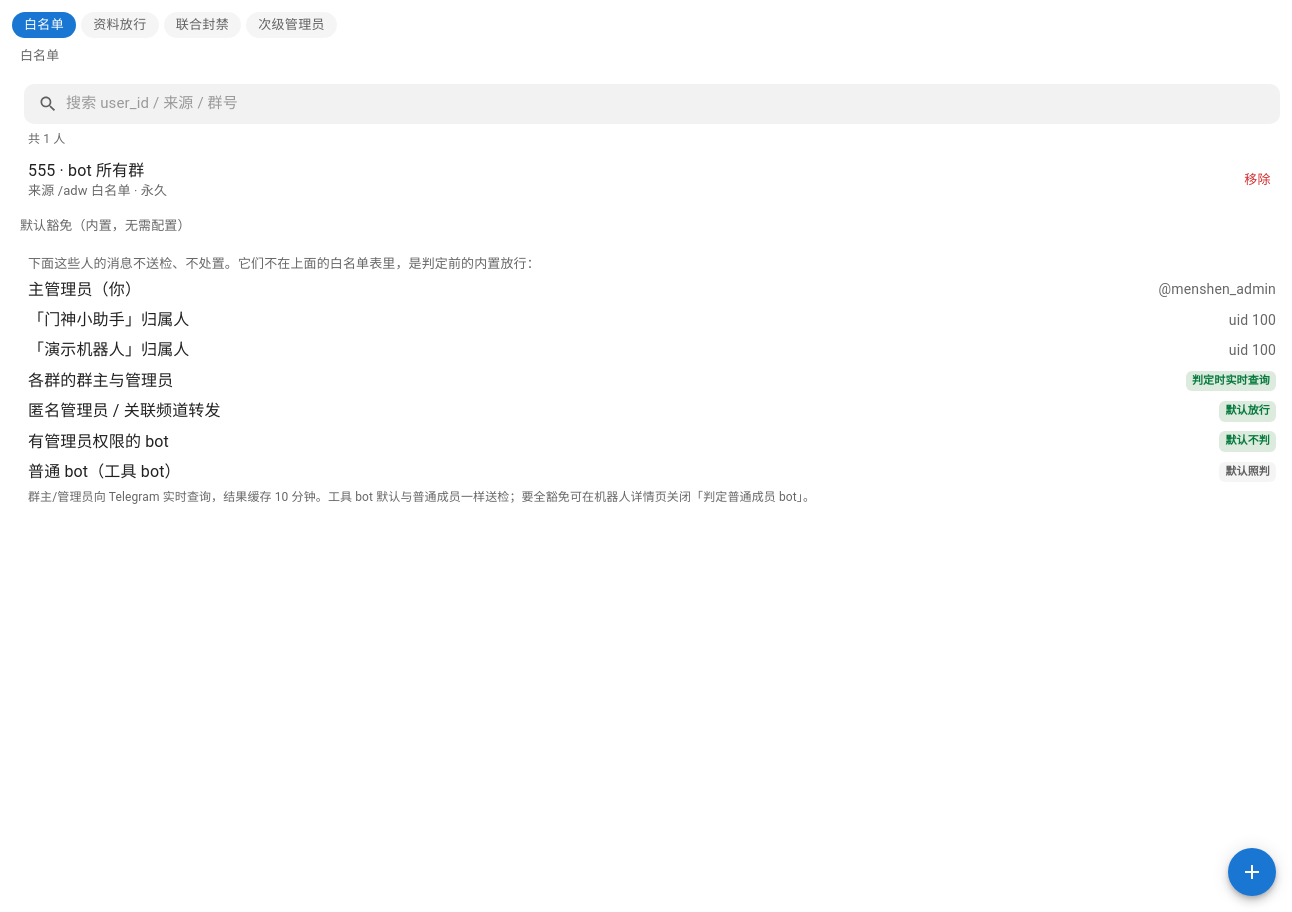
Test case: ListsPage 四处搜索（本地过滤 + 焦点不丢） › 全局组：按 uid / 原因过滤，输入焦点不丢
Expected: the text "555 · bot 所有群" is shown, [28,161,144,180]
Click the button "联合封禁".
click(202, 25)  # box [164,12,241,38]
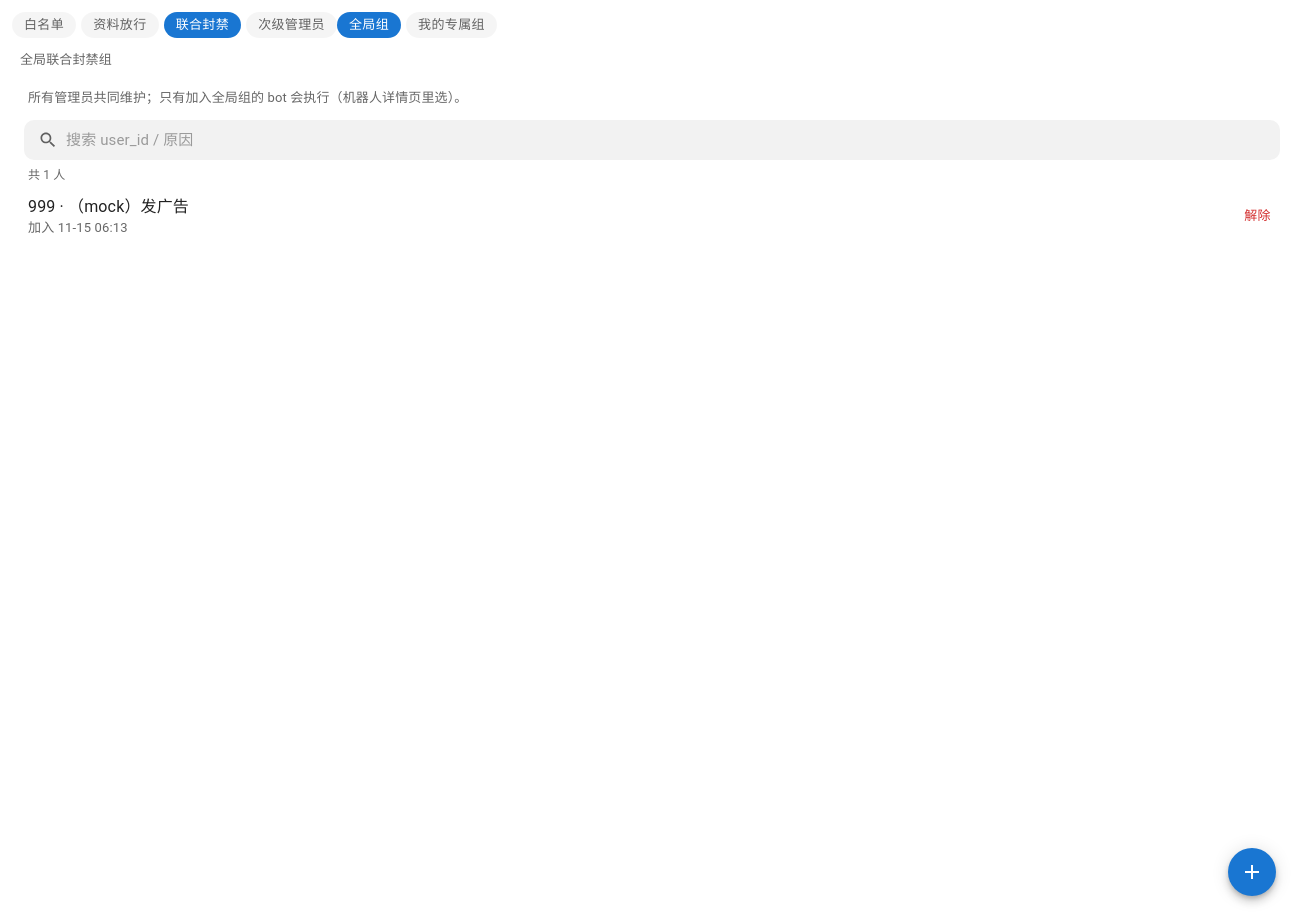
Type "999" into the field named "搜索全局组".
click(673, 140); type("999")  # box [66,121,1280,160]
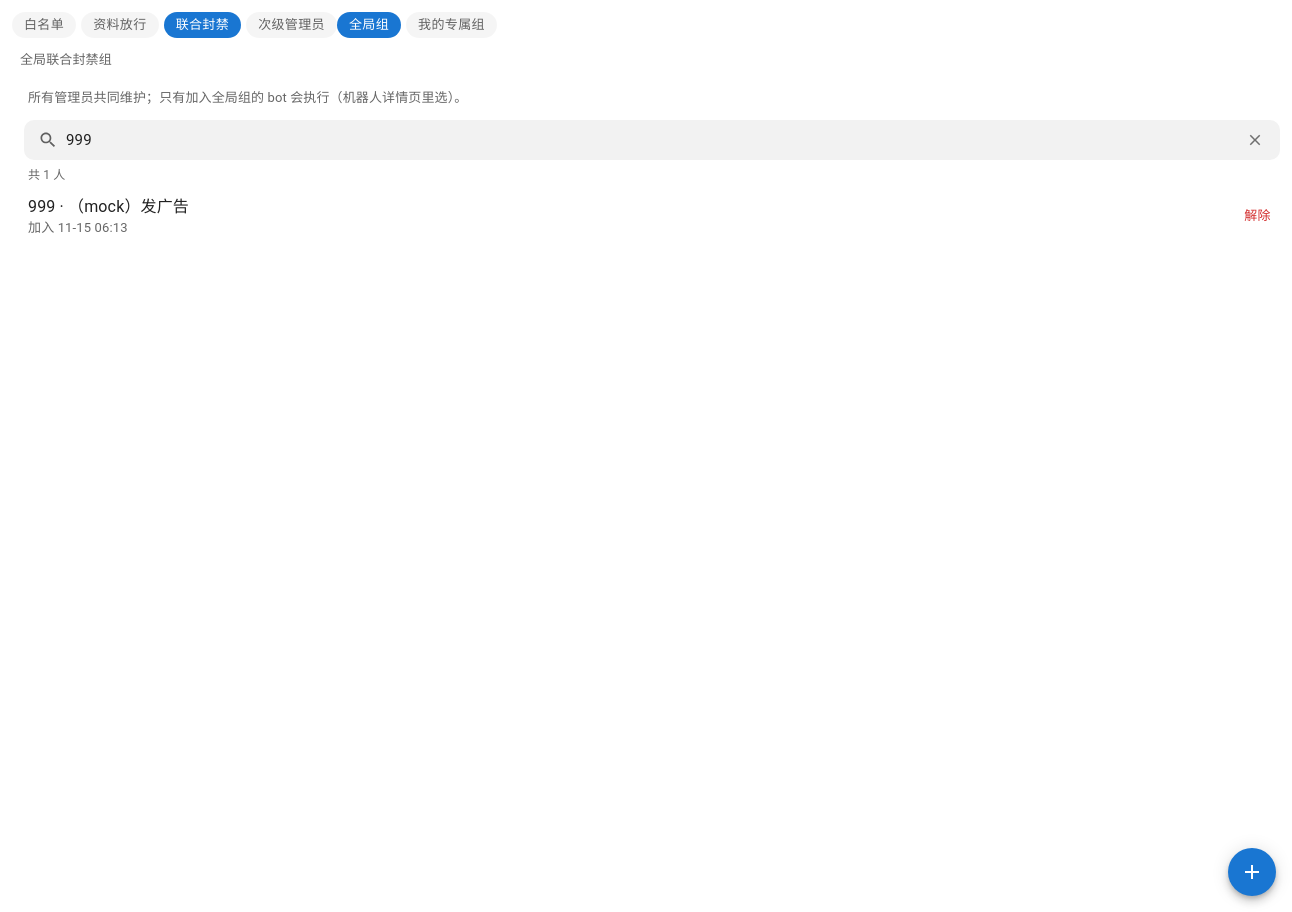
Result: the text "999 · （mock）发广告" is shown at [28,198,189,216]
Replace the text in the field named "搜索全局组" with "发广告" at (650, 140), box [66,121,1233,160]
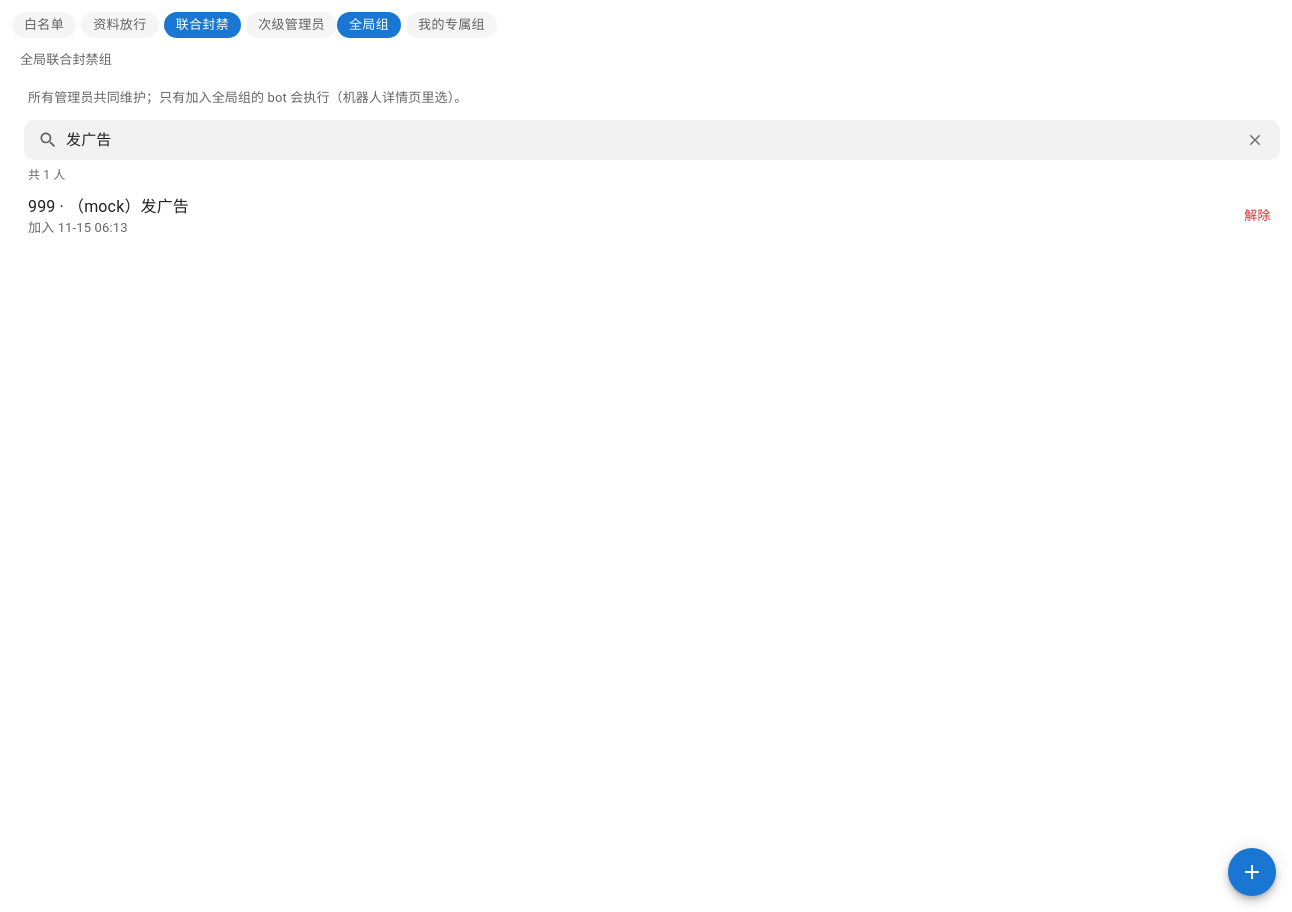
Result: the text "999 · （mock）发广告" is shown at [28,198,189,216]
Replace the text in the field named "搜索全局组" with "888" at (650, 140), box [66,121,1233,160]
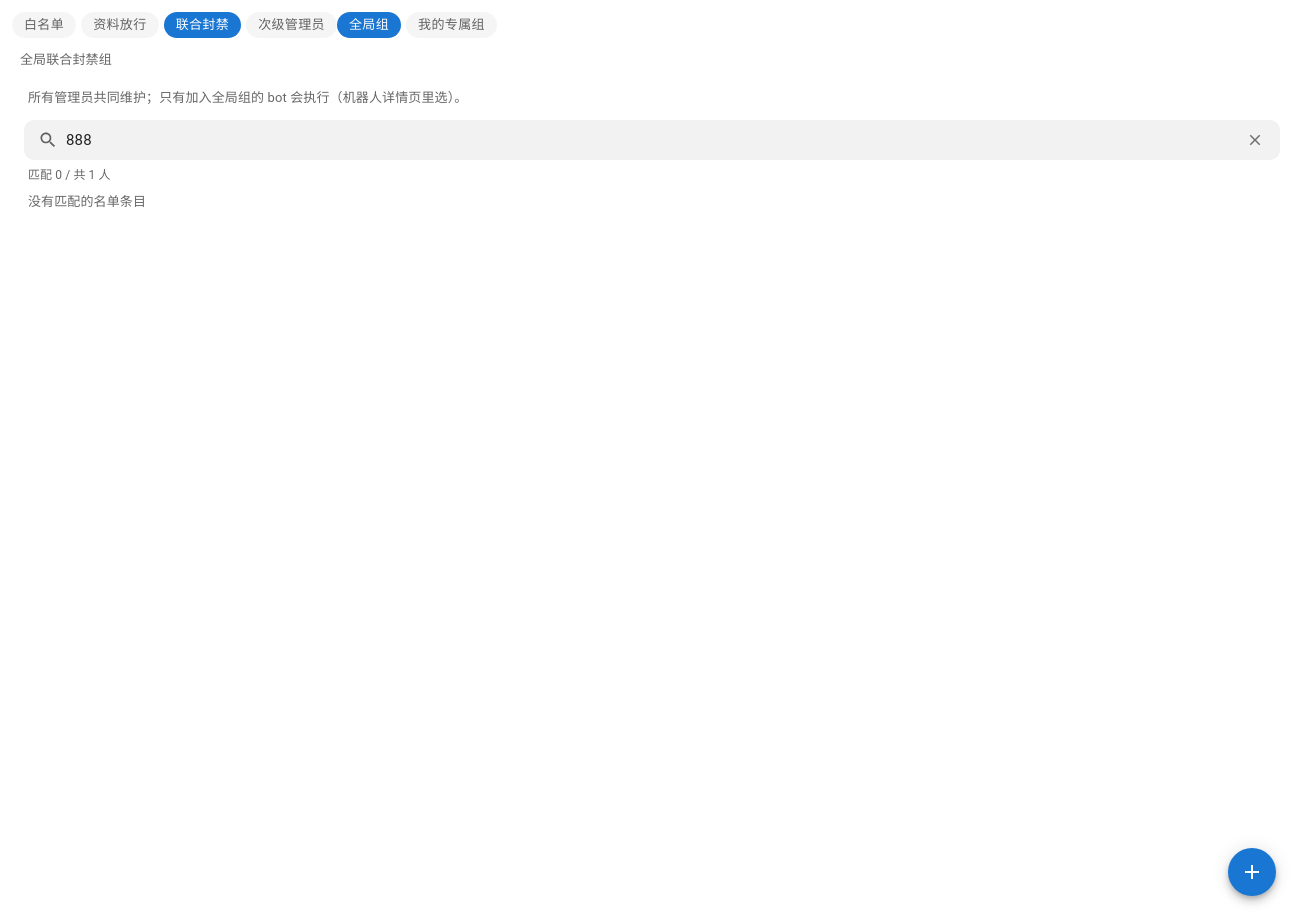
Result: the text "999 · （mock）发广告" is gone
Result: the text "没有匹配的名单条目" is shown at [28,194,146,210]
